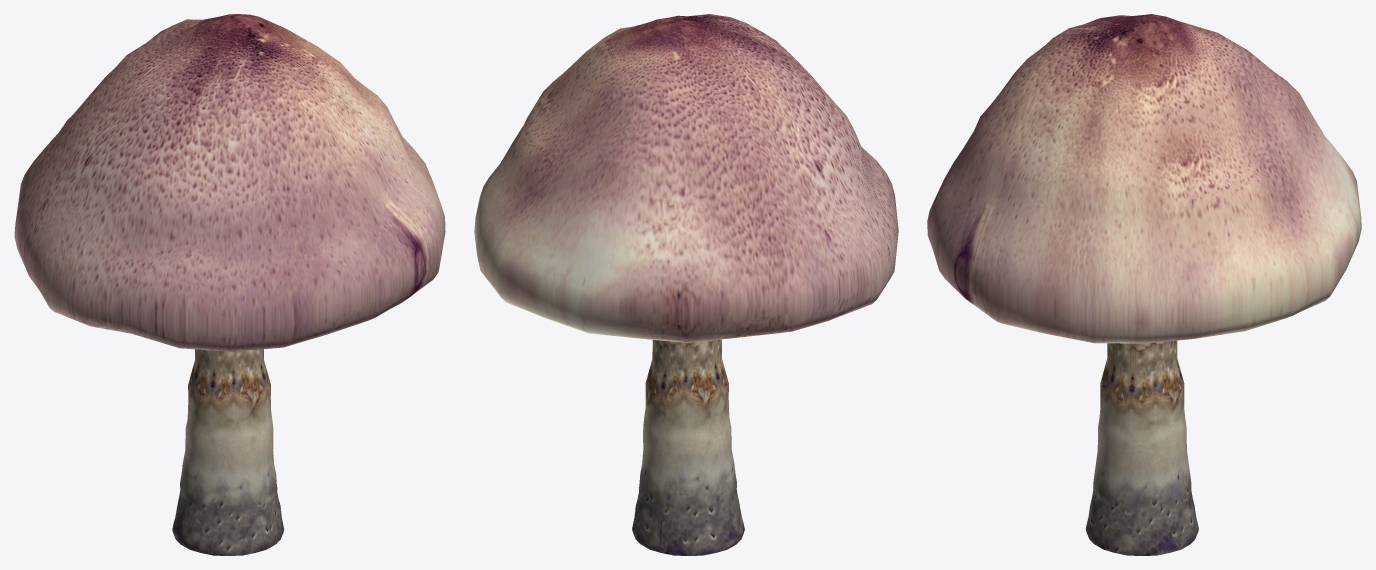
Rendered from mapsMorph5.FBX.
3 renders of one model, left to right at view 1: azimuth 30°, elevation 25°; view 2: azimuth 150°, elevation 25°; view 3: azimuth 270°, elevation 25°, orthographic.
Parts seen in each view (by area): view 1: Mushroom01a_1; view 2: Mushroom01a_1; view 3: Mushroom01a_1.
Boxes of the visible parts, left/top/right/bottom form: Mushroom01a_1: left=14, top=14, right=445, bottom=555; Mushroom01a_1: left=474, top=14, right=898, bottom=555; Mushroom01a_1: left=927, top=14, right=1361, bottom=555.
Bounding box in the file's own units: 140 × 183 × 139.
Materials: 3 (3 with a texture image).
